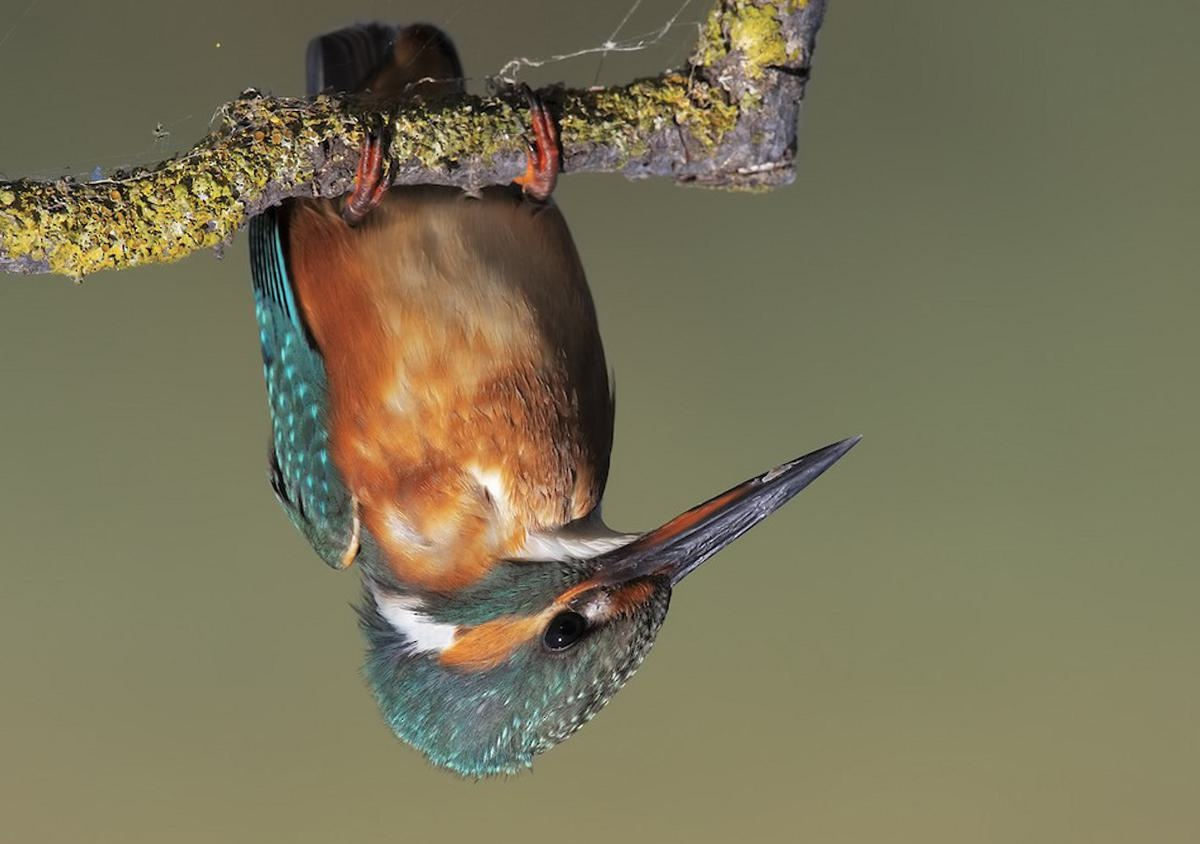kingfisher: (252, 21, 870, 784)
